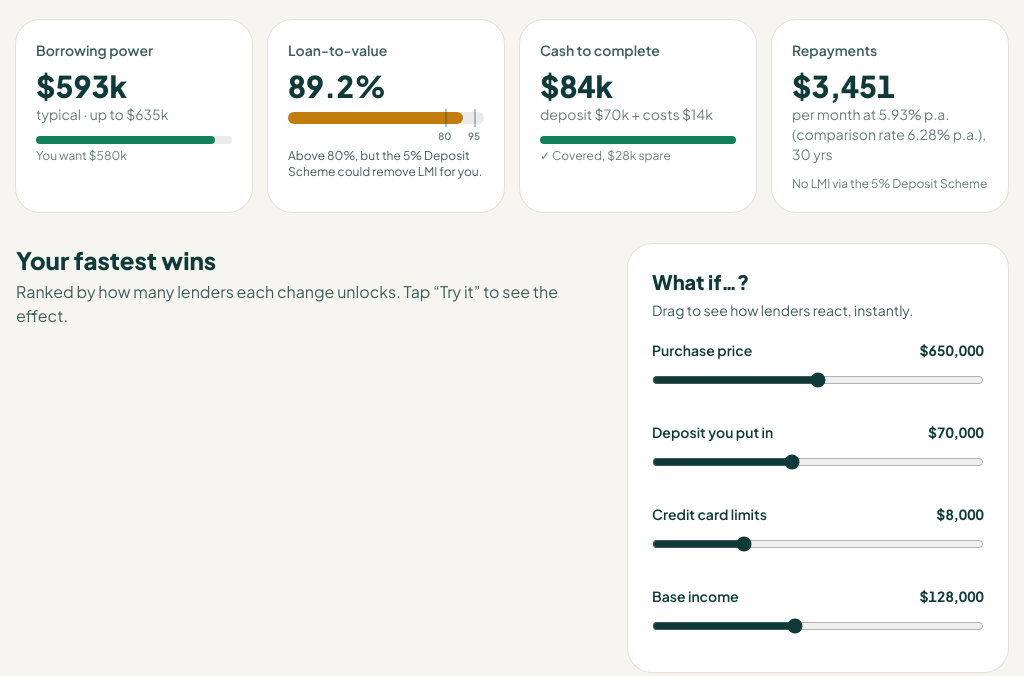
Your report › moves price, deposit and income sliders
(page scrolled)
Set the slider labelled "Purchase price $650,000" to "700000" at (842, 380), box [652,364,984,396]
(page scrolled)
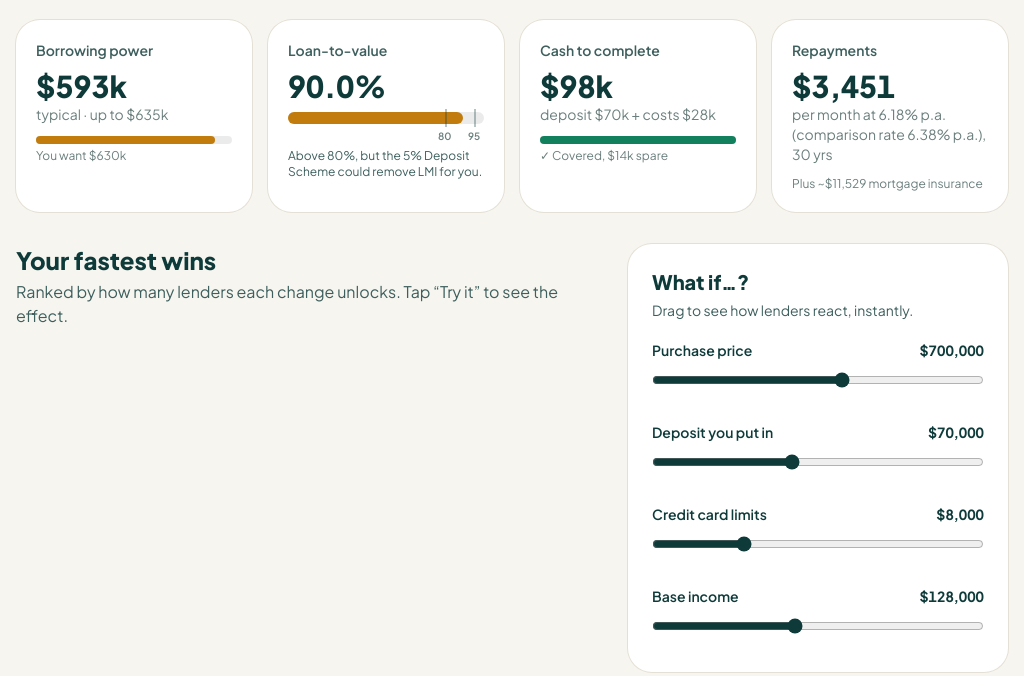
Set the slider labelled "Deposit you put in $70,000" to "100000" at (848, 462), box [652,446,984,478]
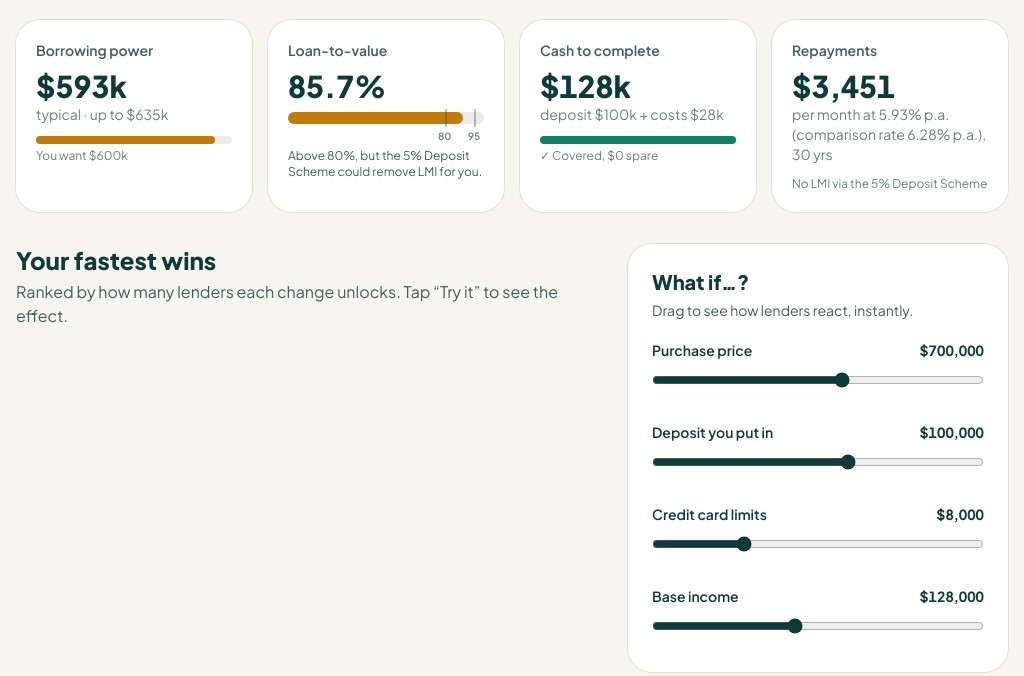
Set the slider labelled "Base income $128,000" to "200000" at (871, 626), box [652,610,984,642]
(page scrolled)
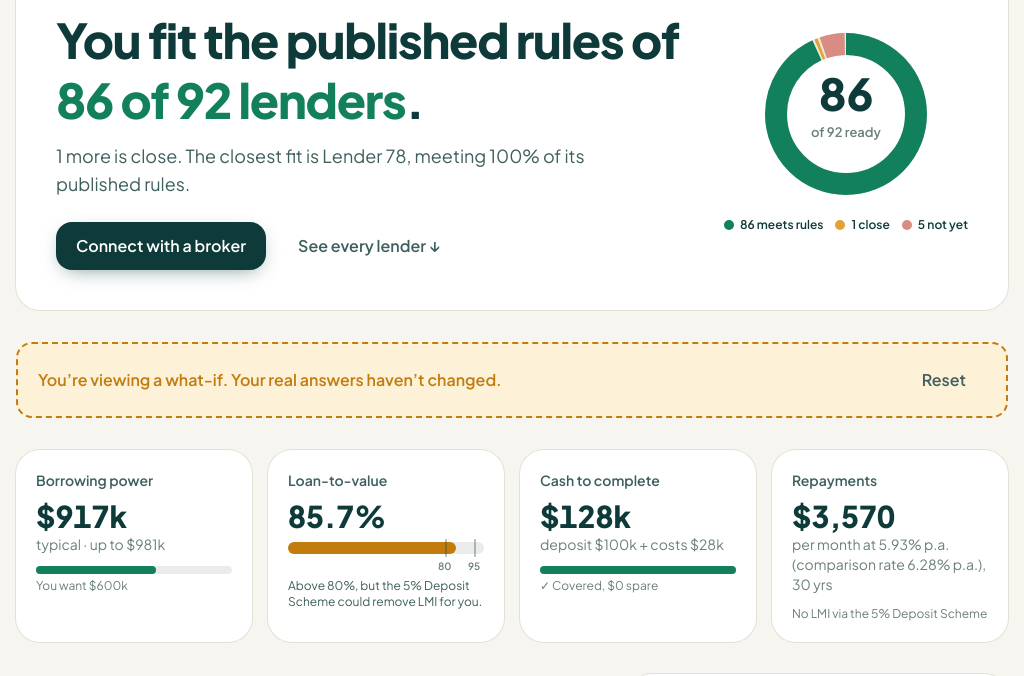
Expected: the text "You’re viewing a what-if. Your real answers haven’t changed." is shown, [38,368,502,392]
